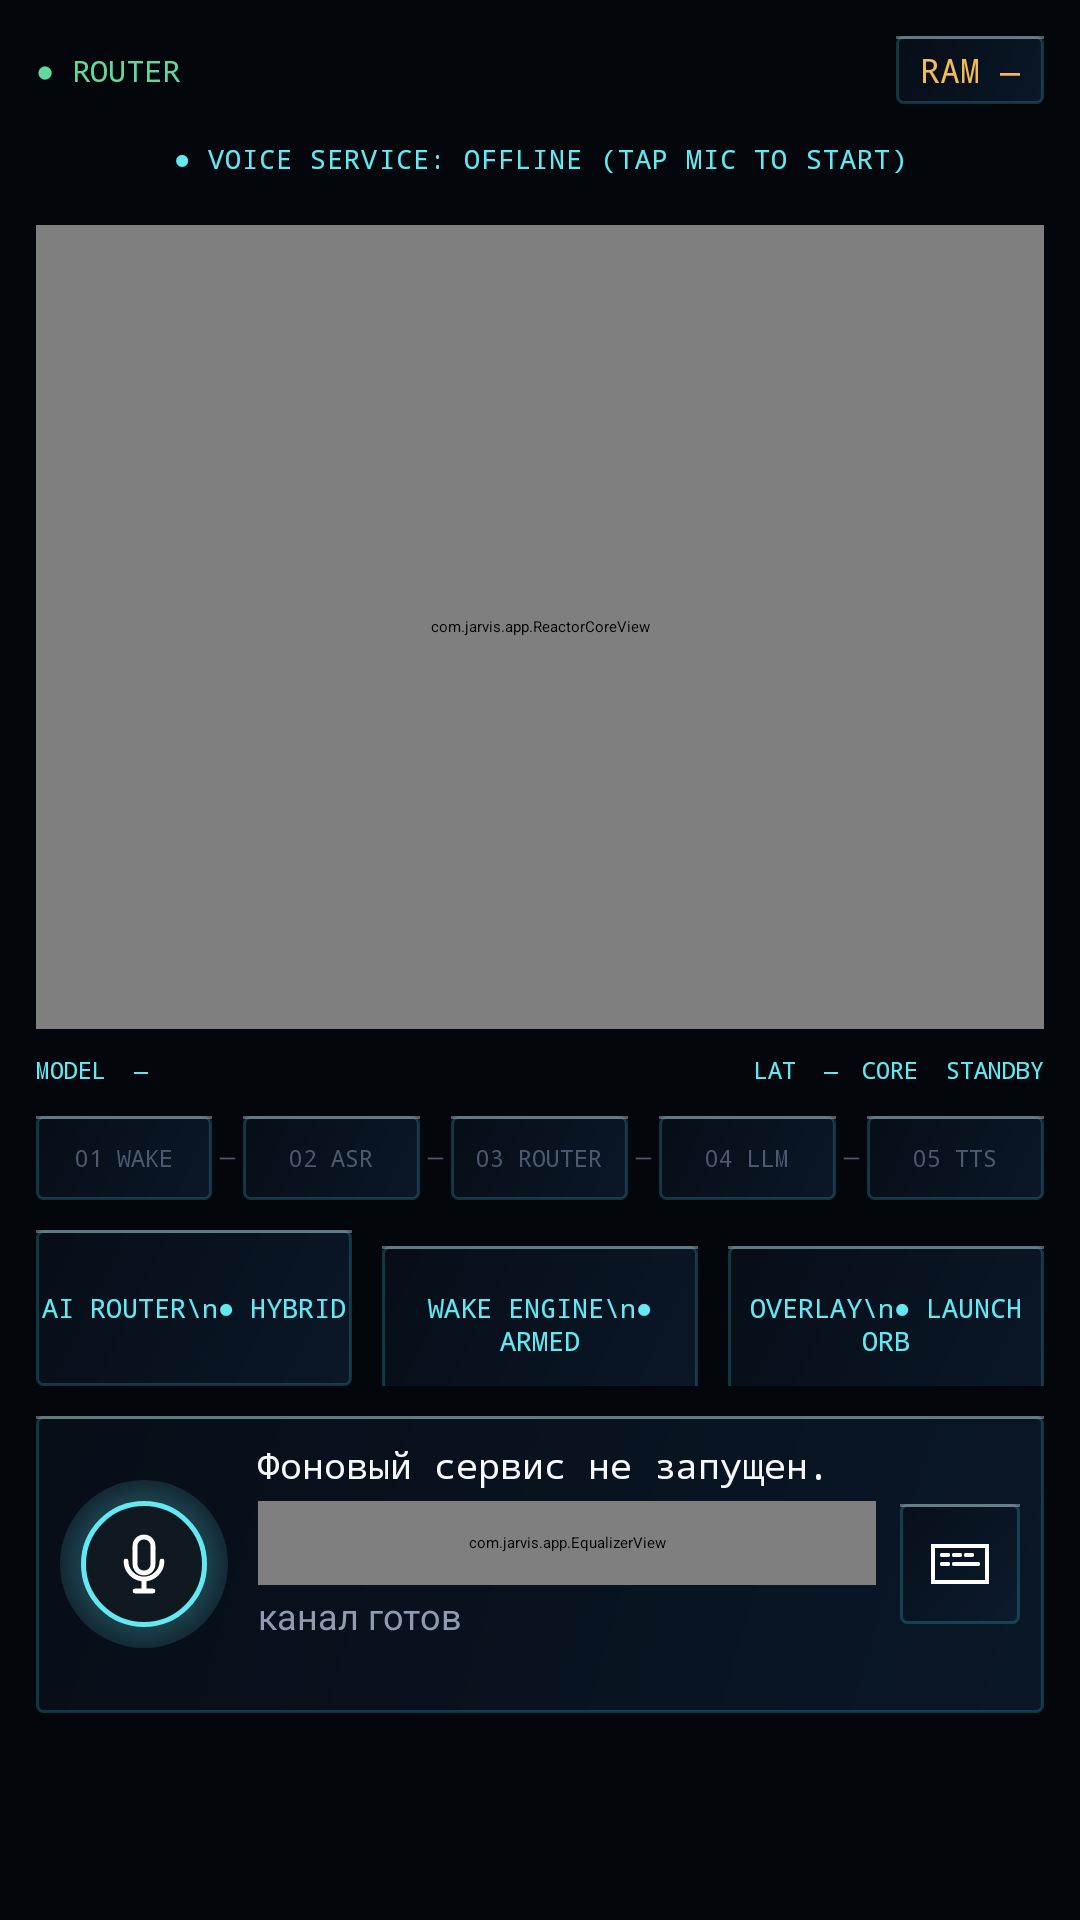

Icon click points for this 1080px x 1920px phone screenshot, format point (x, y):
Диалог: point (960, 1564)
